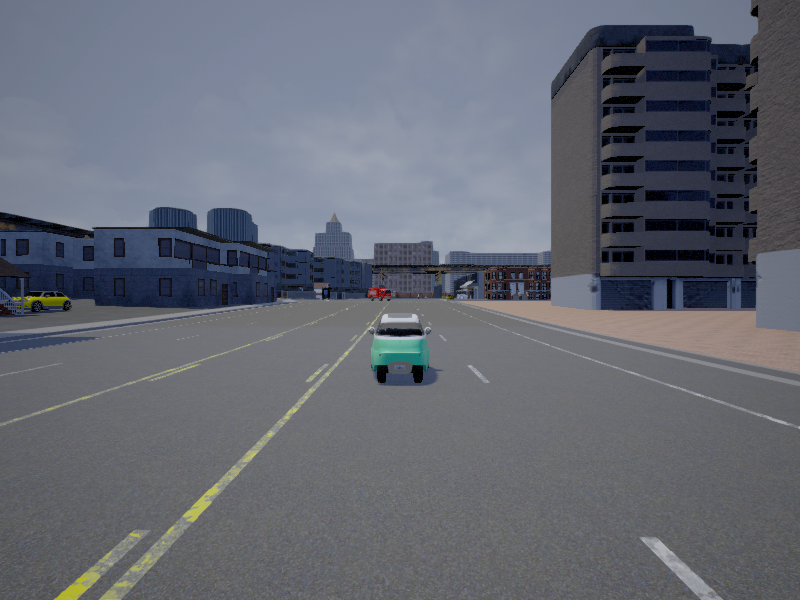Benign: (371, 313, 431, 384), (13, 291, 71, 313), (367, 287, 391, 302)
